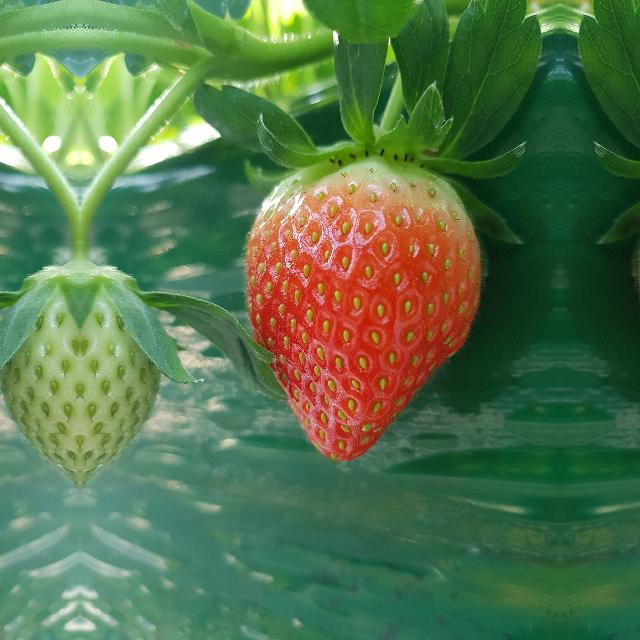Health_100: (243, 153, 485, 463)
Health_25: (80, 251, 160, 491), (0, 251, 80, 491)
